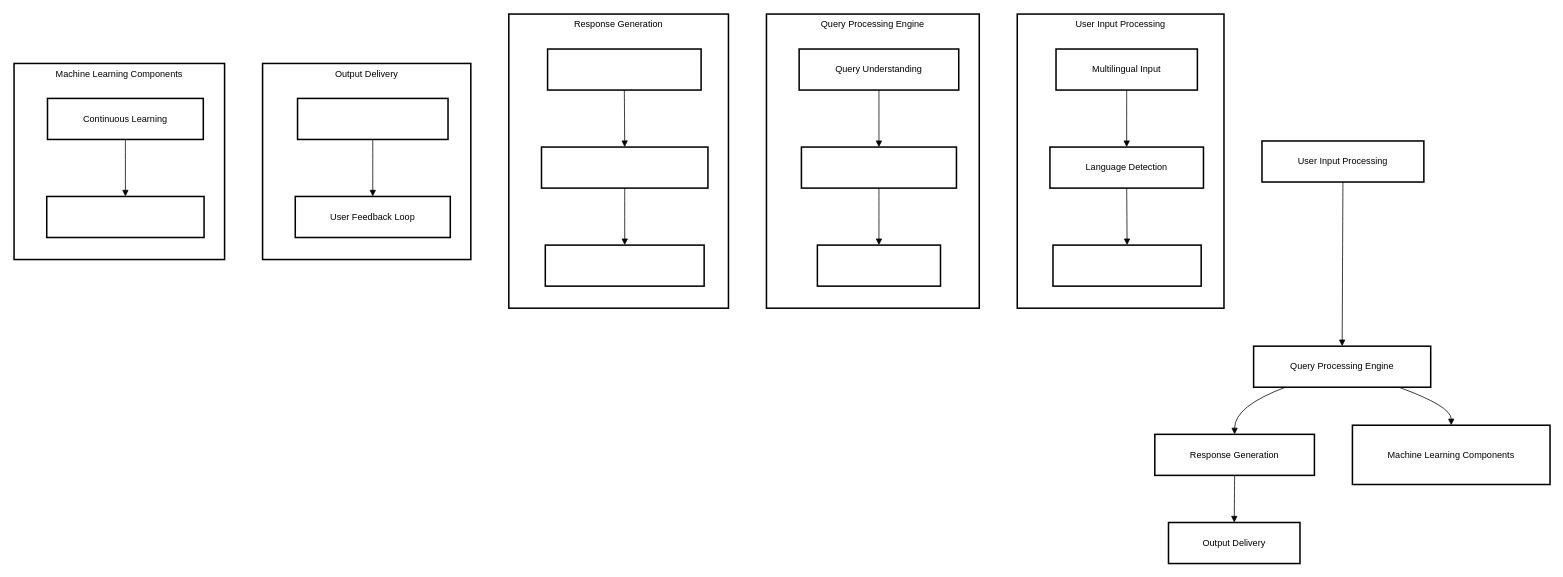
The diagram is 1563 pixels wide and 577 high, and some of its shapes have lost their labels. The centre of each missing label's shape, as x and y in pixels:
"Content Generation" belongs at pixel 623 69.
"Data Retrieval" belongs at pixel 878 265.
"Language Localization" belongs at pixel 624 167.
"Multilingual Output" belongs at pixel 372 118.
"Performance Metrics" belongs at pixel 125 216.
"Query Enhancement" belongs at pixel 878 167.
"Response Formatting" belongs at pixel 624 265.
"Translation Module" belongs at pixel 1127 265.
